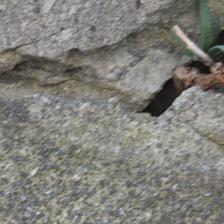Crack: (67, 23, 151, 103)
